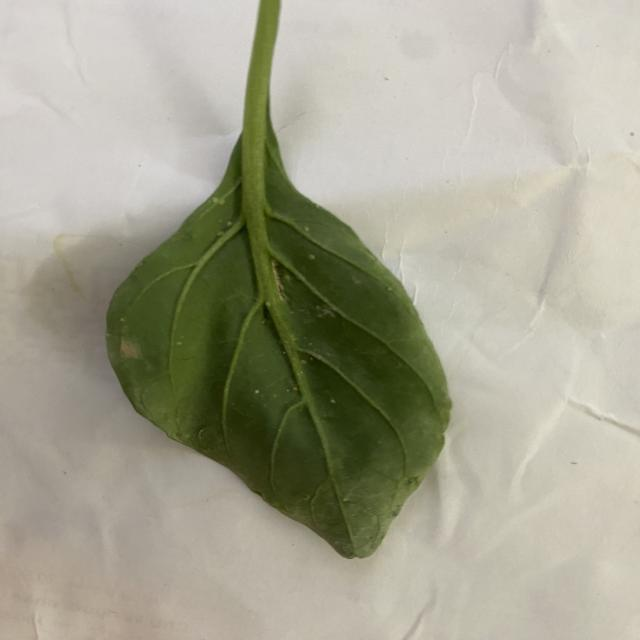Leaf: (99, 155, 455, 562)
